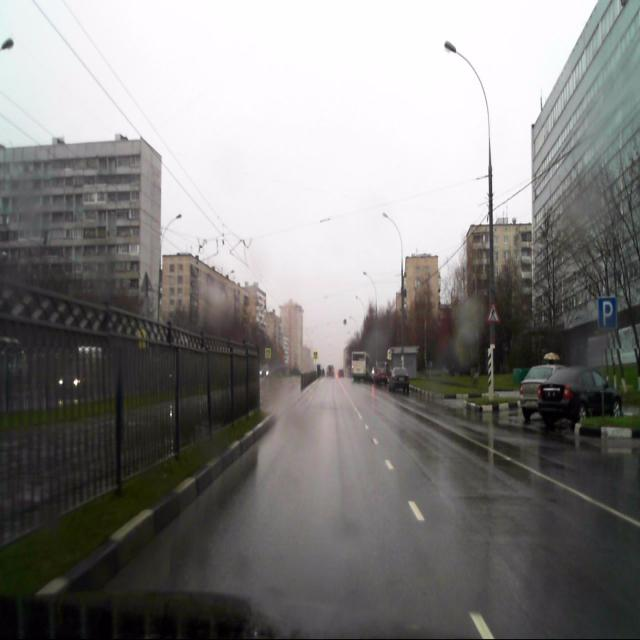road sign: (598, 297, 616, 329), (486, 300, 500, 323)
